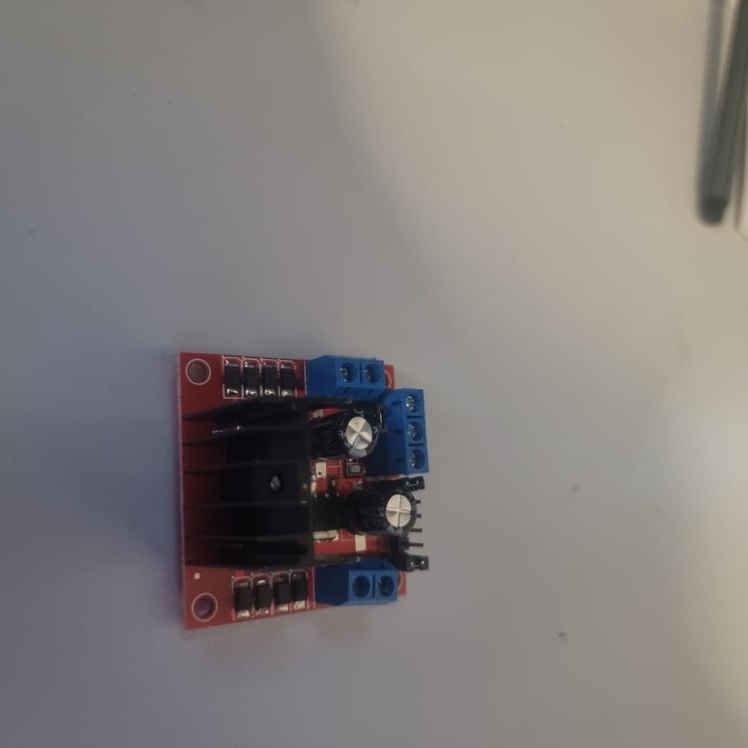MOTOR: (173, 354, 436, 634)
